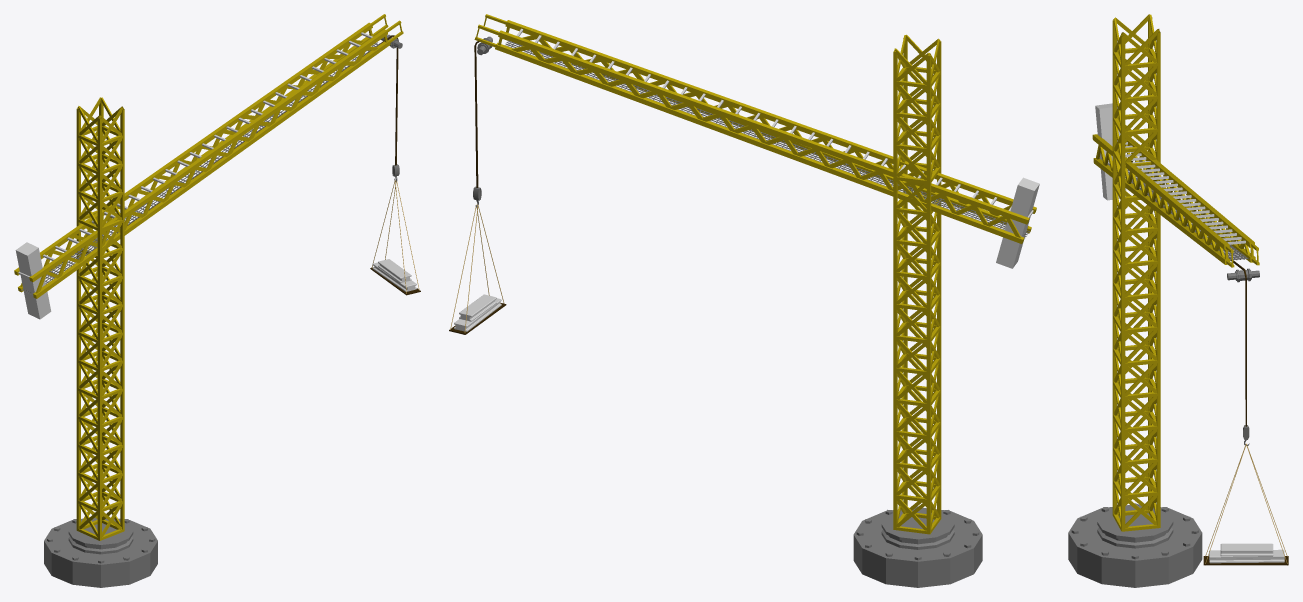
The model's file is Grua.fbx.
3 views of the same model, side by side, from view 1: azimuth 30°, elevation 25°; view 2: azimuth 150°, elevation 25°; view 3: azimuth 270°, elevation 25° (orthographic). The views are drawn at different scales.
Parts seen in each view (by area): view 1: pasted__pCube86, pasted__pCube64, pasted__pCylinder3, pasted__pCube10, Piedra_Contrapeso_Grua, pasted__pCylinder15, pasted__pCube18, pasted__pCube16; view 2: pasted__pCube64, pasted__pCube86, pasted__pCylinder3, pasted__pCube18, pasted__pCube16, pasted__pCylinder15, Piedra_Contrapeso_Grua, pasted__pCube10; view 3: pasted__pCube86, pasted__pCylinder3, pasted__pCube64, pasted__pCylinder15, pasted__pCube10, Piedra_Contrapeso_Grua, pasted__pCube49, pasted__pCube50, pasted__pCube18, pasted__pCube52, pasted__pCube143, pasted__pCube16 (+16 smaller).
Part boxes in pixels (x1=…): pasted__pCube86: x1=76, y1=100, x2=124, y2=540; pasted__pCube64: x1=14, y1=14, x2=403, y2=298; pasted__pCylinder3: x1=44, y1=517, x2=157, y2=587; pasted__pCube10: x1=35, y1=46, x2=378, y2=293; Piedra_Contrapeso_Grua: x1=15, y1=242, x2=51, y2=319; pasted__pCylinder15: x1=68, y1=518, x2=133, y2=554; pasted__pCube18: x1=20, y1=40, x2=363, y2=286; pasted__pCube16: x1=21, y1=42, x2=380, y2=295; pasted__pCube64: x1=474, y1=14, x2=1036, y2=243; pasted__pCube86: x1=893, y1=38, x2=941, y2=534; pasted__pCylinder3: x1=853, y1=508, x2=982, y2=587; pasted__pCube18: x1=511, y1=46, x2=1021, y2=238; pasted__pCube16: x1=505, y1=40, x2=1029, y2=239; pasted__pCylinder15: x1=881, y1=508, x2=954, y2=549; Piedra_Contrapeso_Grua: x1=996, y1=177, x2=1039, y2=268; pasted__pCube10: x1=522, y1=35, x2=1028, y2=227; pasted__pCube86: x1=1112, y1=17, x2=1160, y2=531; pasted__pCylinder3: x1=1068, y1=504, x2=1202, y2=587; pasted__pCube64: x1=1092, y1=134, x2=1259, y2=267; pasted__pCylinder15: x1=1097, y1=505, x2=1173, y2=548; pasted__pCube10: x1=1095, y1=145, x2=1224, y2=256; Piedra_Contrapeso_Grua: x1=1095, y1=103, x2=1126, y2=200; pasted__pCube49: x1=1220, y1=543, x2=1273, y2=556; pasted__pCube50: x1=1209, y1=549, x2=1284, y2=563; pasted__pCube18: x1=1125, y1=144, x2=1249, y2=254; pasted__pCube52: x1=1163, y1=207, x2=1249, y2=445; pasted__pCube143: x1=1121, y1=29, x2=1159, y2=65; pasted__pCube16: x1=1107, y1=163, x2=1248, y2=260.
Size of the model in its own units: 73.37 by 72.28 by 26.91.
